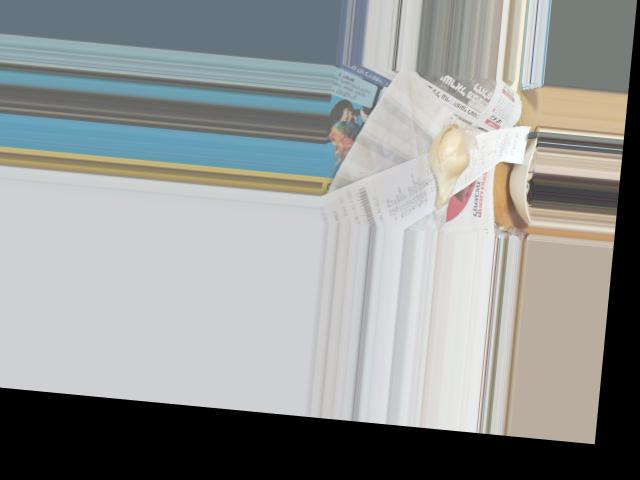onion: (421, 123, 472, 208)
